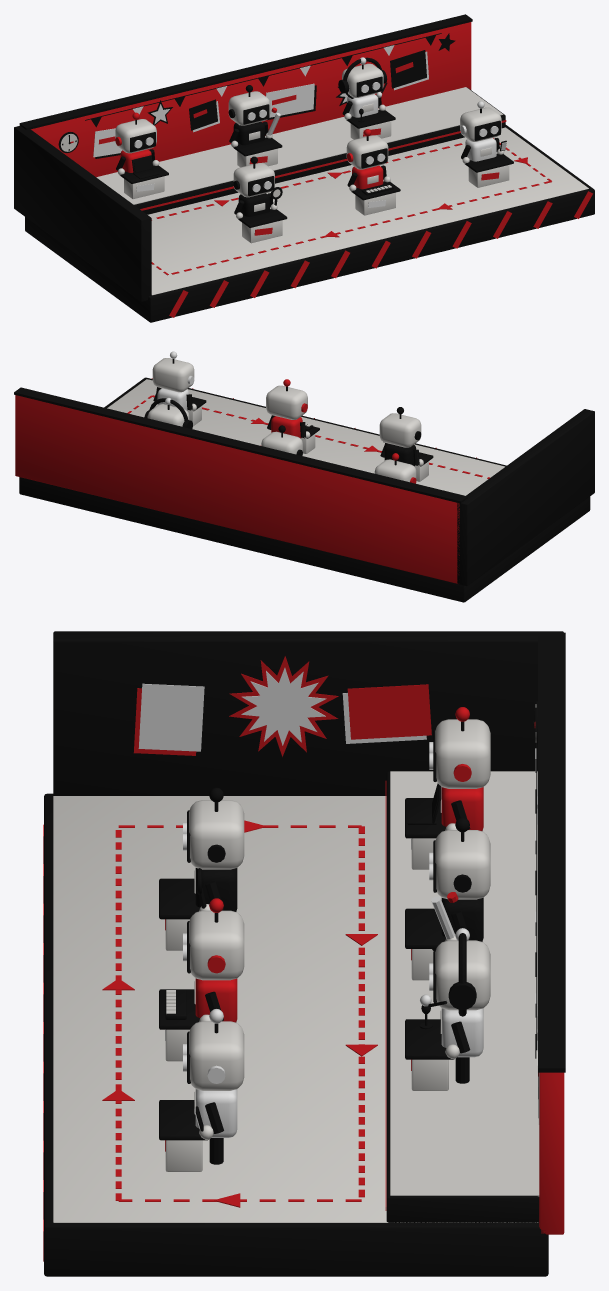
The model's file is studio6.glb.
3 views of the same model, one above another, from view 1: azimuth 30°, elevation 25°; view 2: azimuth 150°, elevation 25°; view 3: azimuth 270°, elevation 25° (orthographic). The views are drawn at different scales.
Visible parts, largest first — view 1: env, head_03, head_02, head_05, head_01, head_06, head_04, body_05, body_06, body_02, body_04, body_03; view 2: env, head_04, head_06, head_05, head_03, head_01, head_02, body_04, body_05, body_06; view 3: env, head_03, head_05, head_01, head_04, head_06, head_02, body_03, body_06, body_05, body_01, body_04 (+1 smaller).
Boxes of the visible parts, x1=… form: env: x1=14, y1=14, x2=594, y2=322; head_03: x1=338, y1=57, x2=387, y2=98; head_02: x1=228, y1=91, x2=270, y2=125; head_05: x1=346, y1=135, x2=388, y2=169; head_01: x1=115, y1=119, x2=156, y2=153; head_06: x1=460, y1=107, x2=501, y2=141; head_04: x1=233, y1=163, x2=274, y2=197; body_05: x1=352, y1=165, x2=383, y2=189; body_06: x1=465, y1=138, x2=496, y2=161; body_02: x1=233, y1=121, x2=264, y2=145; body_04: x1=238, y1=193, x2=269, y2=216; body_03: x1=347, y1=94, x2=378, y2=117; env: x1=14, y1=377, x2=594, y2=602; head_04: x1=379, y1=413, x2=421, y2=447; head_06: x1=152, y1=358, x2=194, y2=392; head_05: x1=266, y1=385, x2=307, y2=419; head_03: x1=144, y1=398, x2=192, y2=428; head_01: x1=374, y1=459, x2=416, y2=483; head_02: x1=261, y1=431, x2=302, y2=455; body_04: x1=384, y1=444, x2=416, y2=466; body_05: x1=271, y1=416, x2=302, y2=438; body_06: x1=157, y1=388, x2=189, y2=410; env: x1=43, y1=631, x2=565, y2=1276; head_03: x1=420, y1=926, x2=490, y2=1016; head_05: x1=187, y1=910, x2=244, y2=980; head_01: x1=433, y1=719, x2=490, y2=788; head_04: x1=187, y1=800, x2=244, y2=869; head_06: x1=187, y1=1021, x2=244, y2=1090; head_02: x1=433, y1=830, x2=490, y2=899; body_03: x1=440, y1=1008, x2=483, y2=1083; body_06: x1=194, y1=1089, x2=237, y2=1164; body_05: x1=194, y1=978, x2=237, y2=1022; body_01: x1=440, y1=787, x2=483, y2=830; body_04: x1=194, y1=868, x2=237, y2=911.
Bounding box in the file's own units: 16.77 × 3.97 × 8.38.
